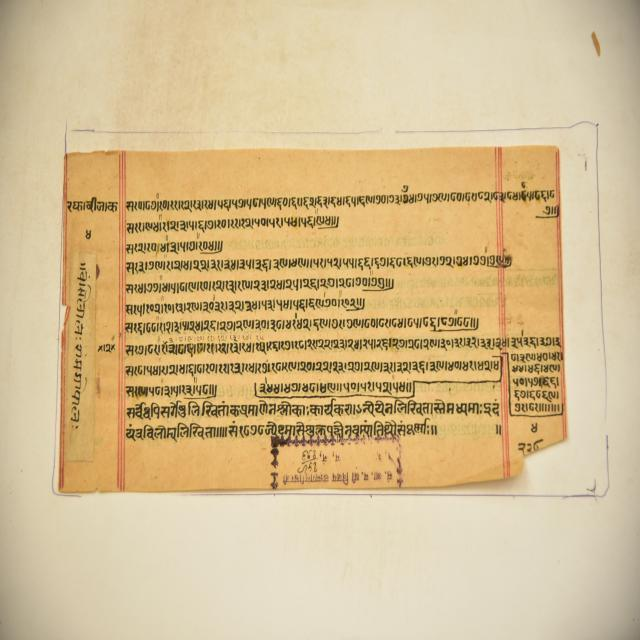text_paragraph: (53, 149, 567, 488)
